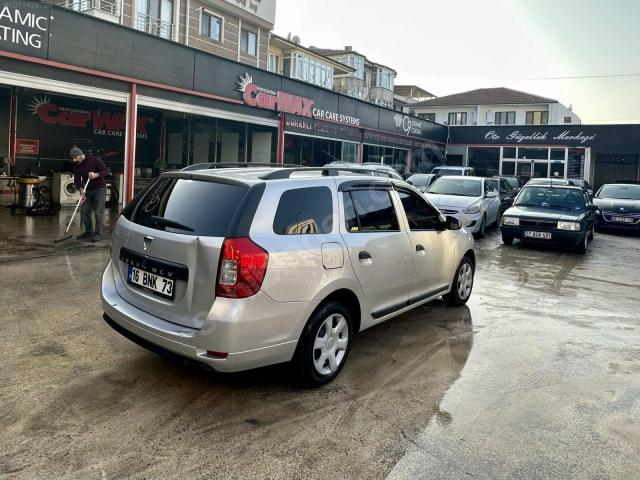plaka: (128, 267, 174, 296)
